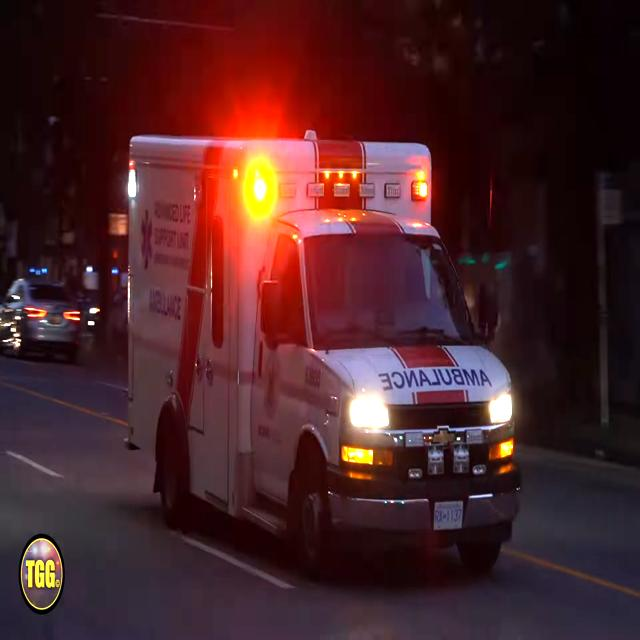emergency-vehicles: (94, 106, 536, 590)
